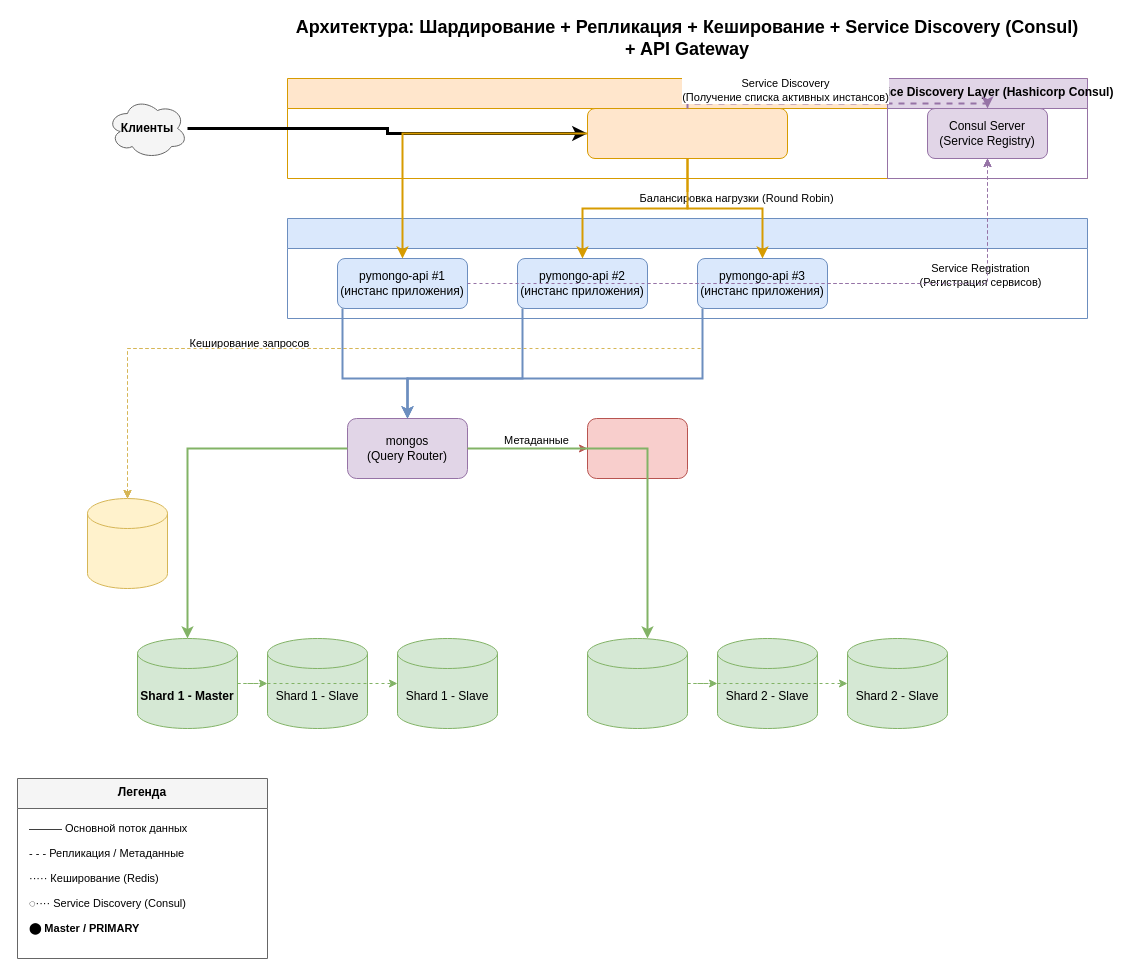
Image size: 1131x976. Some labels were removed from this diagram. The shapes that lost their labels are listed below. From the top down, each one's box as (x1, y1, x2, y2) in pixels, then its label:
(286, 78, 1088, 178): API Gateway Layer
(586, 108, 788, 158): API Gateway (Kong / Nginx) Балансировка нагрузки + Маршрутизация
(286, 218, 1088, 318): Application Instances (Горизонтальное масштабирование)
(586, 418, 688, 478): Config Server (configSrv)
(86, 498, 168, 588): Redis Cache
(586, 638, 688, 728): Shard 2 - Master
